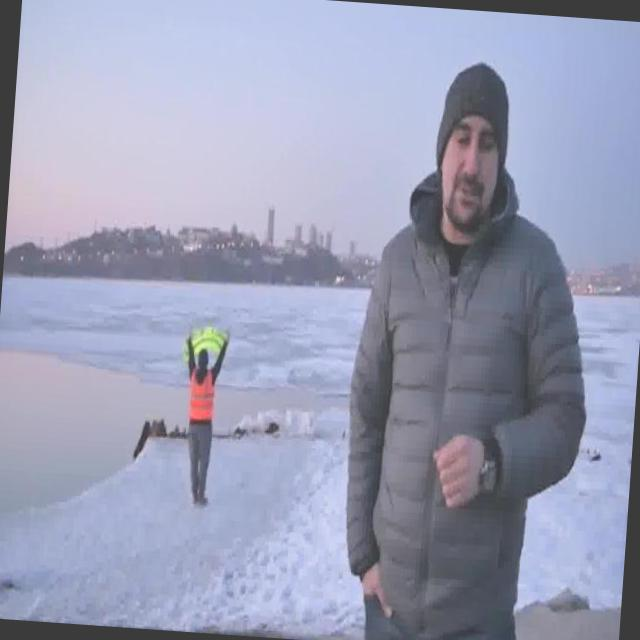no-gloves: (420, 431, 501, 509)
no-helmet: (427, 117, 507, 230)
vest: (182, 322, 228, 370), (186, 366, 217, 422)
